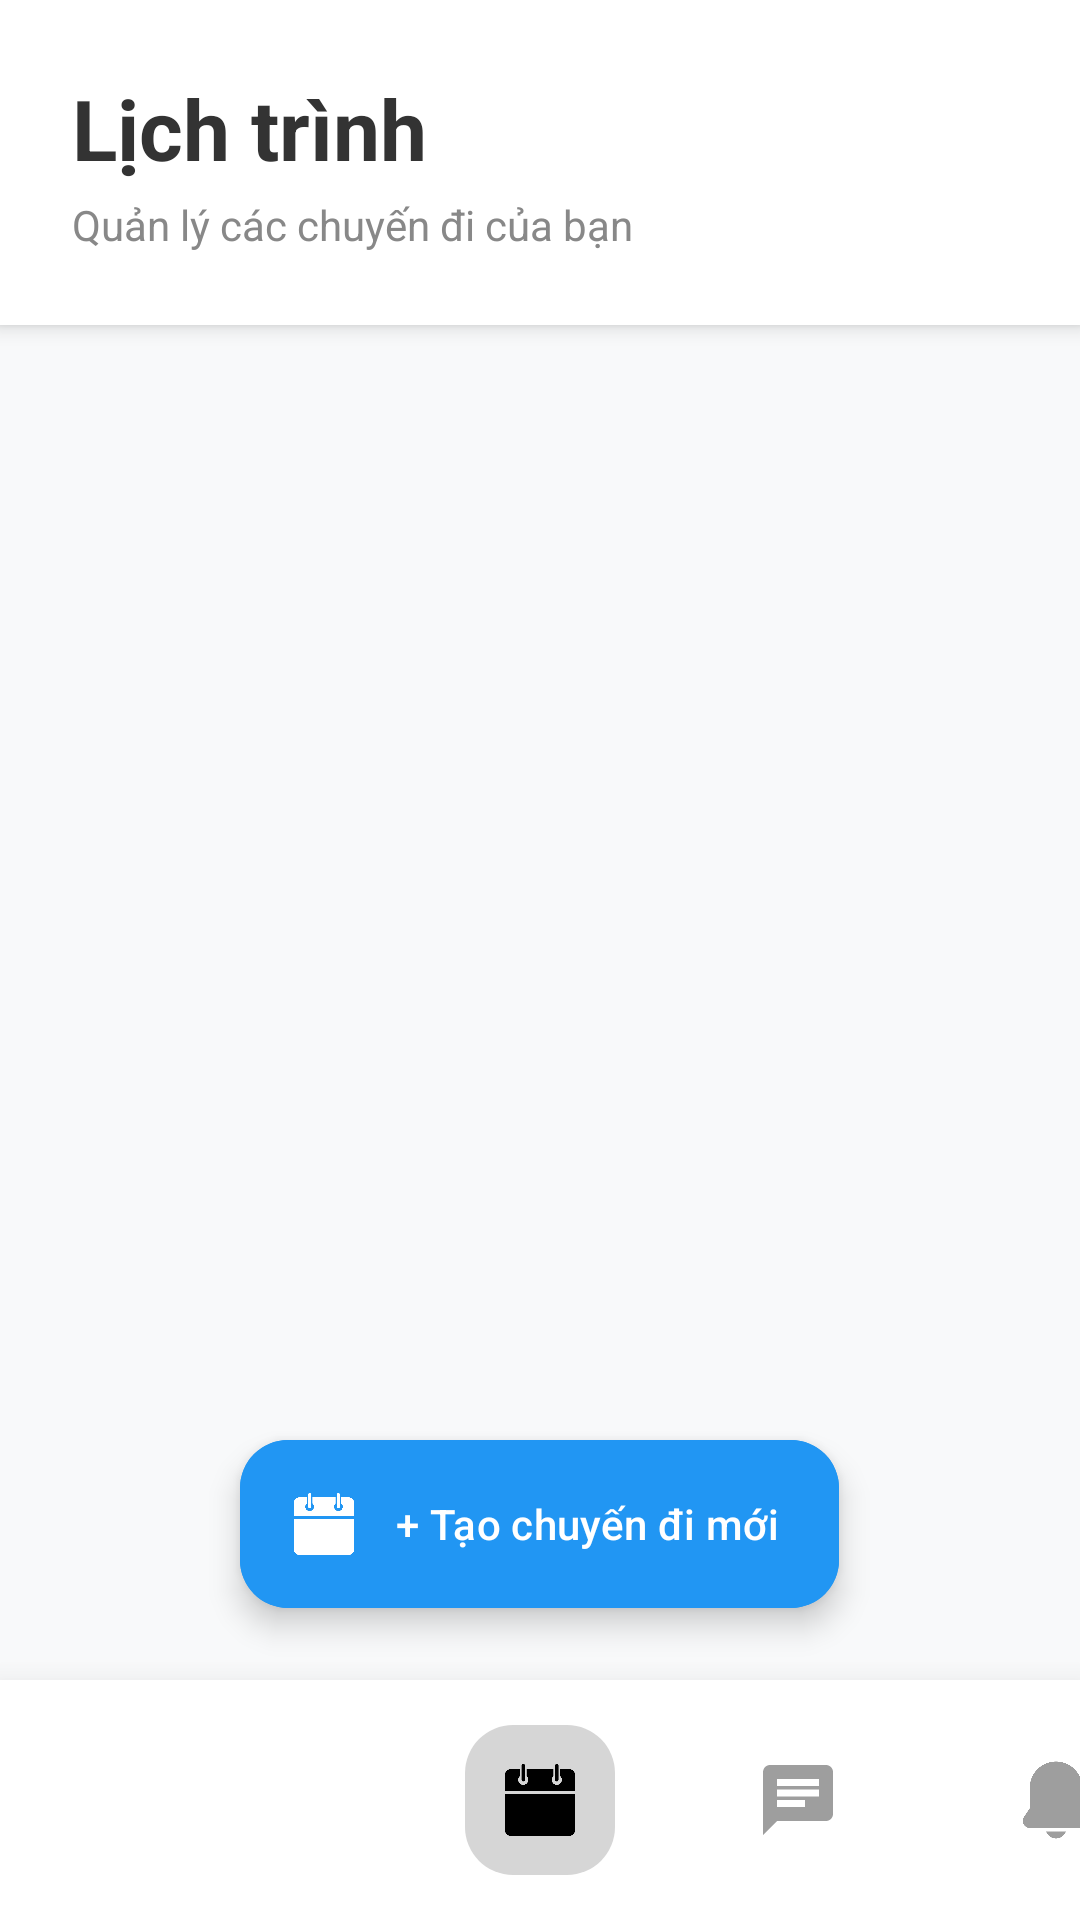

Point at icon controls on the screen. Image size 1080 × 1920, points as (x=x, y=y).
calendar: (x=540, y=1800)
chat: (x=798, y=1800)
